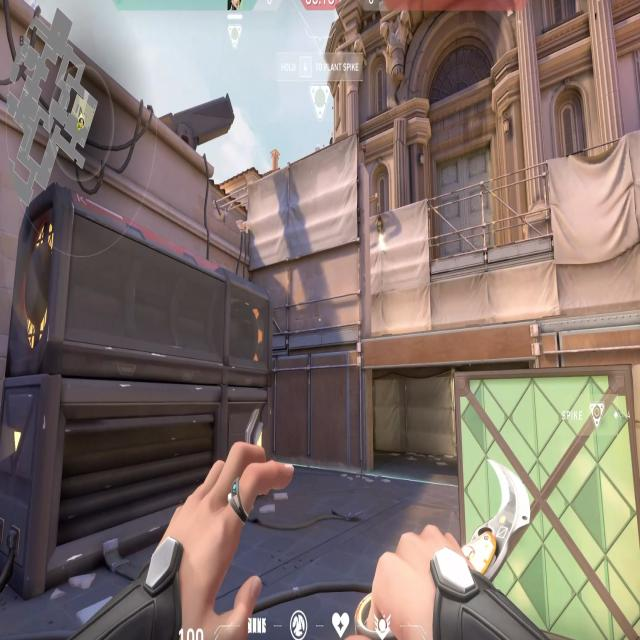A_Heaven_Wall: (245, 135, 371, 352)
A_Hell: (354, 327, 541, 480)
